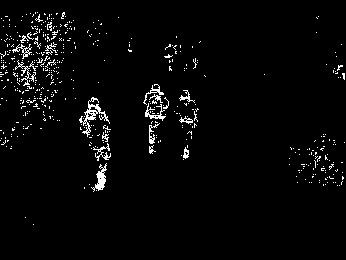person: (80, 96, 115, 192), (145, 84, 168, 156), (179, 85, 197, 159)
